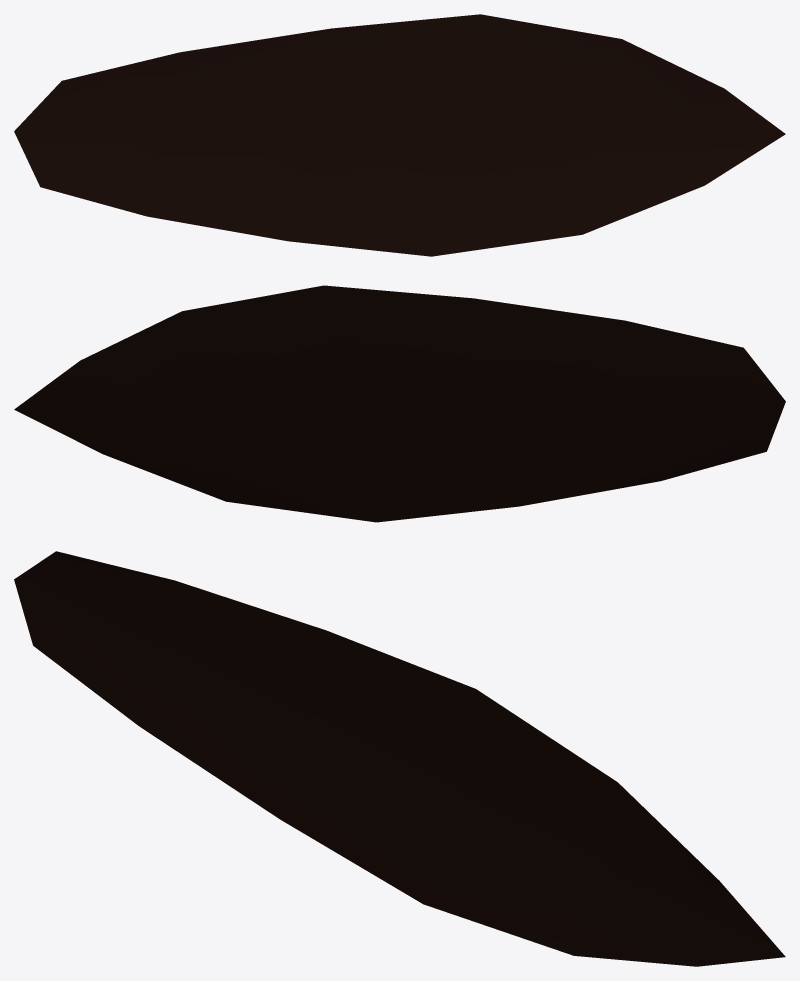
Rendered from rooster_feather_flight_secondary_032.obj.
3 views of the same model, one above another, from view 1: azimuth 30°, elevation 25°; view 2: azimuth 150°, elevation 25°; view 3: azimuth 330°, elevation 25° (orthographic).
Visible parts, largest first — view 1: feather_flight_secondary_032; view 2: feather_flight_secondary_032; view 3: feather_flight_secondary_032.
Boxes of the visible parts, x1=… form: feather_flight_secondary_032: x1=14, y1=14, x2=785, y2=256; feather_flight_secondary_032: x1=14, y1=285, x2=785, y2=522; feather_flight_secondary_032: x1=14, y1=551, x2=785, y2=966.
Size of the model in its own units: 0.0704 by 0.0245 by 0.00113.
